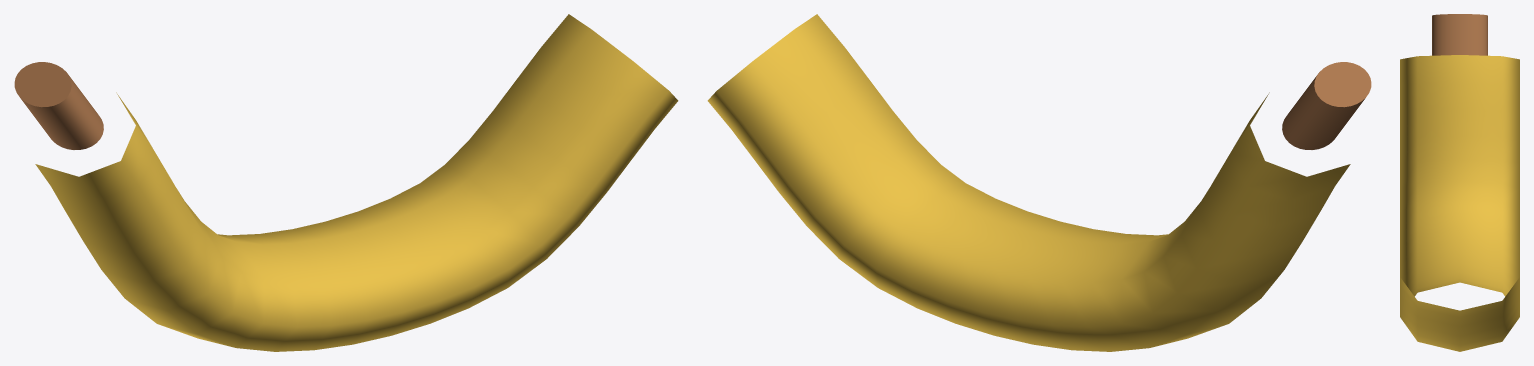
Rendered from wp-banane.glb.
3 renders of one model, left to right at view 1: azimuth 30°, elevation 25°; view 2: azimuth 150°, elevation 25°; view 3: azimuth 270°, elevation 25°, orthographic. The views are drawn at different scales.
Parts seen in each view (by area): view 1: wp-banane; view 2: wp-banane; view 3: wp-banane.
Part boxes in pixels (x1=…): wp-banane: x1=14, y1=14, x2=678, y2=351; wp-banane: x1=707, y1=14, x2=1371, y2=351; wp-banane: x1=1400, y1=14, x2=1519, y2=351.
Bounding box in the file's own units: 0.2 × 0.1 × 0.05.
